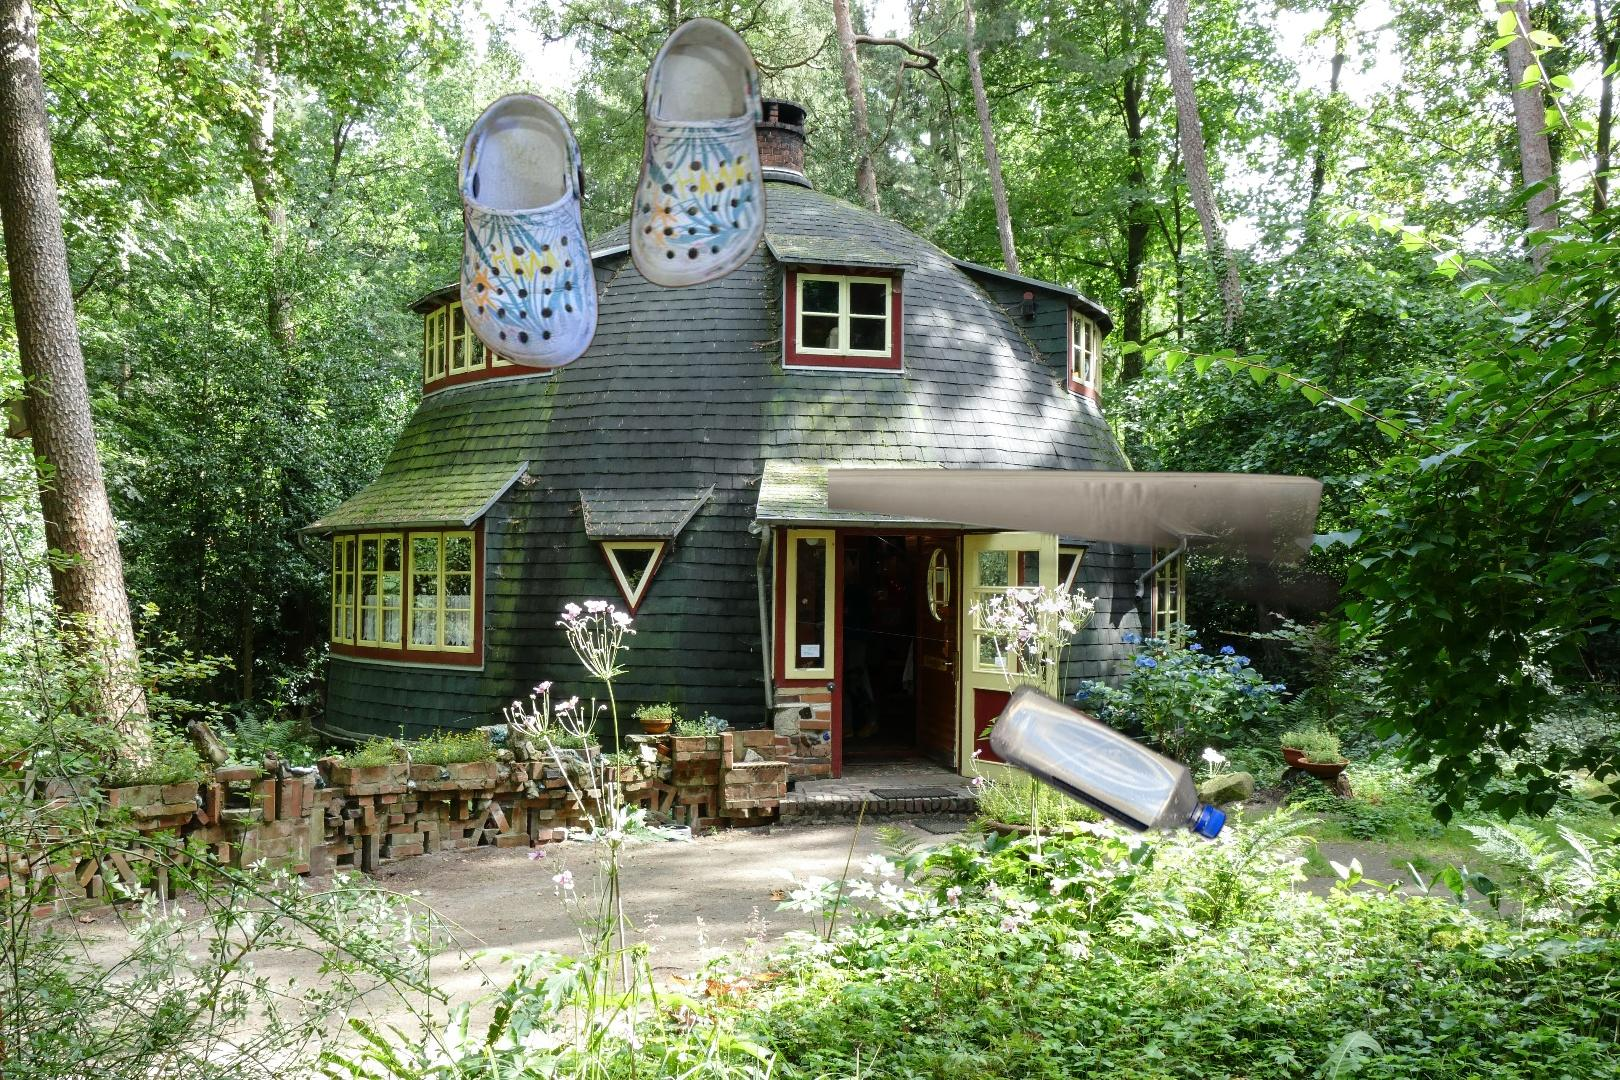paper: (828, 462, 1340, 674)
plastic-bottles: (984, 677, 1231, 845)
shoes: (454, 12, 770, 374)
